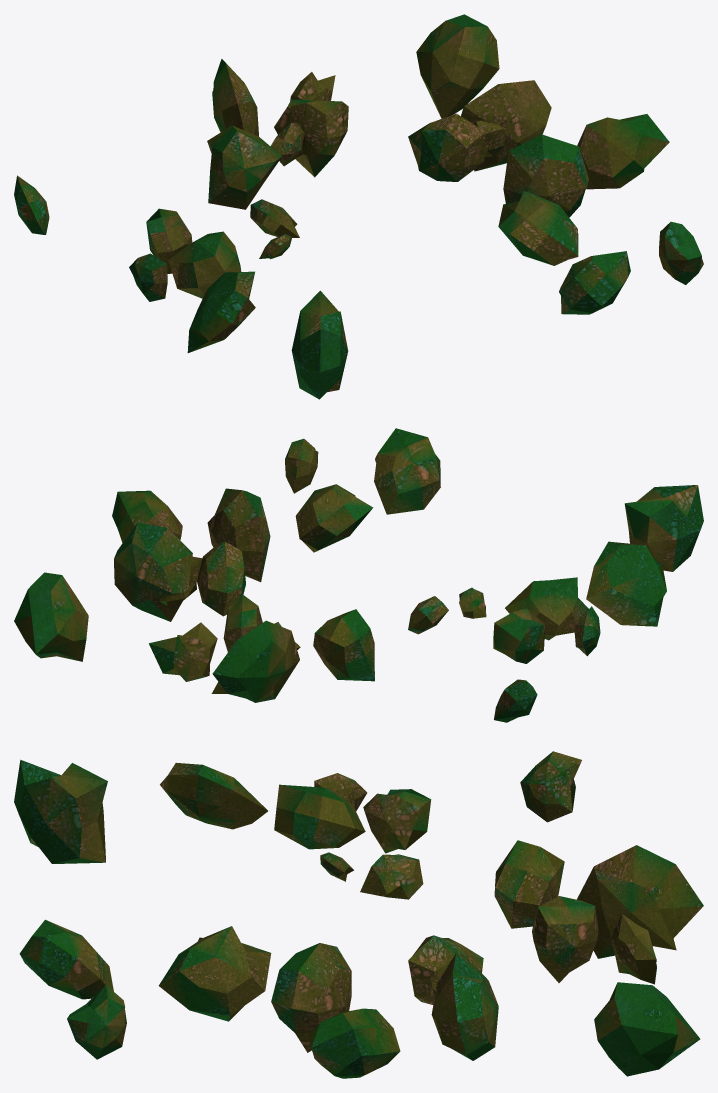
The model's file is pebbles_2.glb.
3 renders of one model, top to bottom at view 1: azimuth 30°, elevation 25°; view 2: azimuth 150°, elevation 25°; view 3: azimuth 270°, elevation 25°, orthographic. The views are drawn at different scales.
Parts seen in each view (by area): view 1: pebbles; view 2: pebbles; view 3: pebbles.
Boxes of the visible parts, x1,y1,x2,y2 form: pebbles: (14,14,703,399); pebbles: (14,428,703,722); pebbles: (14,751,703,1078).
Size of the model in its own units: 1.91 by 0.3453 by 1.91.
Materials: 1 (1 with a texture image).
